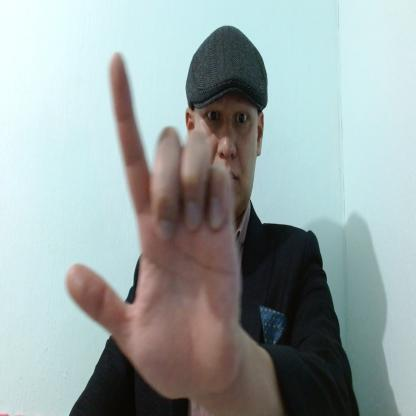L: (66, 52, 241, 398)
